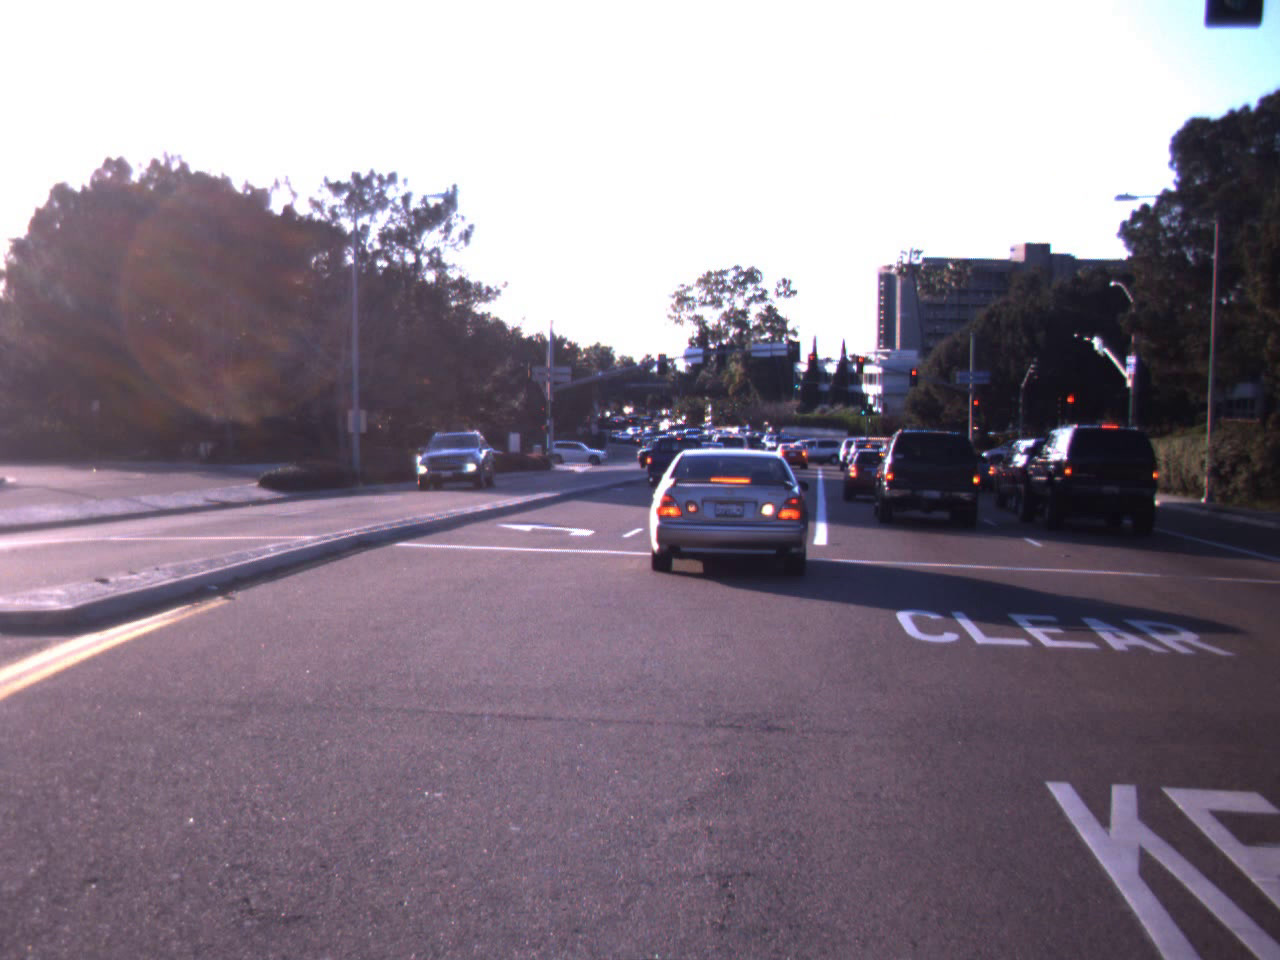go: (788, 362, 806, 392)
stop: (1062, 394, 1080, 416), (855, 356, 867, 374), (908, 368, 920, 386), (970, 398, 982, 416)
